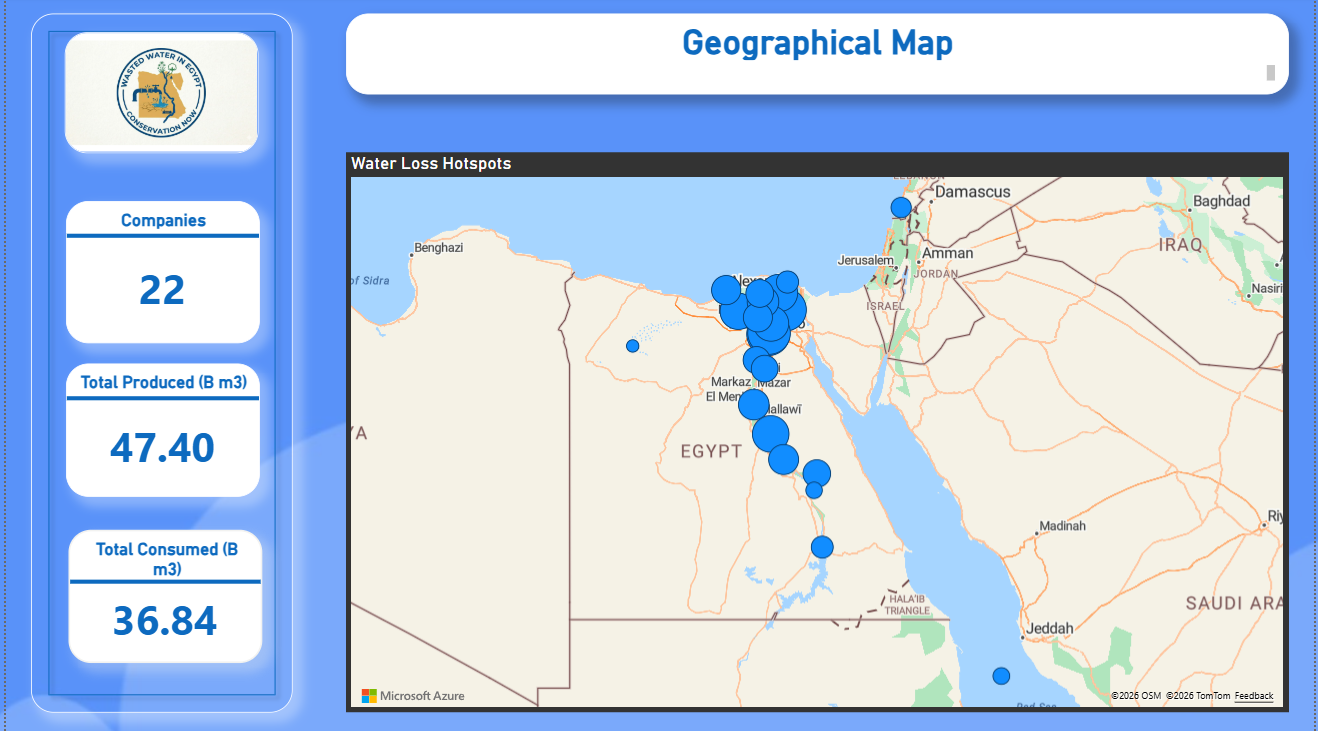

This screenshot's page, from the dashboard's own definition file:
{"tool":"powerbi","page":{"name":"Map","canvas":[1280,720],"ordinal":0},"visuals":[{"type":"cardVisual","title":"Total Produced (B m3)","fields":{"Data":["_Measures.Total Produced (B m3)"]},"box":[59.1,359.4,189.6,130.4],"z":0},{"type":"azureMap","title":"Water Loss Hotspots","fields":{"Category":["Dim_Company.governorate"],"Size":["_Measures.Total Water Loss (M m3)"]},"box":[332.1,153.2,922.1,547.5],"z":1000},{"type":"cardVisual","title":"Companies","fields":{"Data":["CountNonNull(Dim_Company.company_id)"]},"box":[59.1,200.2,189.6,139.5],"z":2000},{"type":"textbox","title":"Geographical Map","box":[332.1,16.7,922.1,78.9],"z":3000},{"type":"shape","box":[24.3,16.7,256.3,684],"z":4000},{"type":"image","box":[57.6,34.9,189.6,118.3],"z":5000},{"type":"cardVisual","title":"Total Consumed (B m3)","fields":{"Data":["_Measures.Total Consumed (B m3)"]},"box":[60.7,521.7,189.6,130.4],"z":6000}]}

Visuals, with their boxes in screenshot pixels (x1, y1, x2, y2), scaled from the page's 1280x720 canvas onto the 1318x731 screenshot:
"Total Produced (B m3)" cardVisual: (61, 365, 256, 497)
"Water Loss Hotspots" azureMap: (342, 156, 1291, 711)
"Companies" cardVisual: (61, 203, 256, 345)
"Geographical Map" textbox: (342, 17, 1291, 97)
shape: (25, 17, 289, 711)
image: (59, 35, 255, 156)
"Total Consumed (B m3)" cardVisual: (63, 530, 258, 662)
